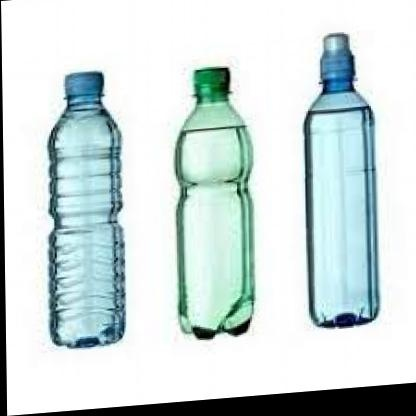trash: (305, 33, 377, 326), (175, 68, 253, 338), (48, 72, 124, 347)
